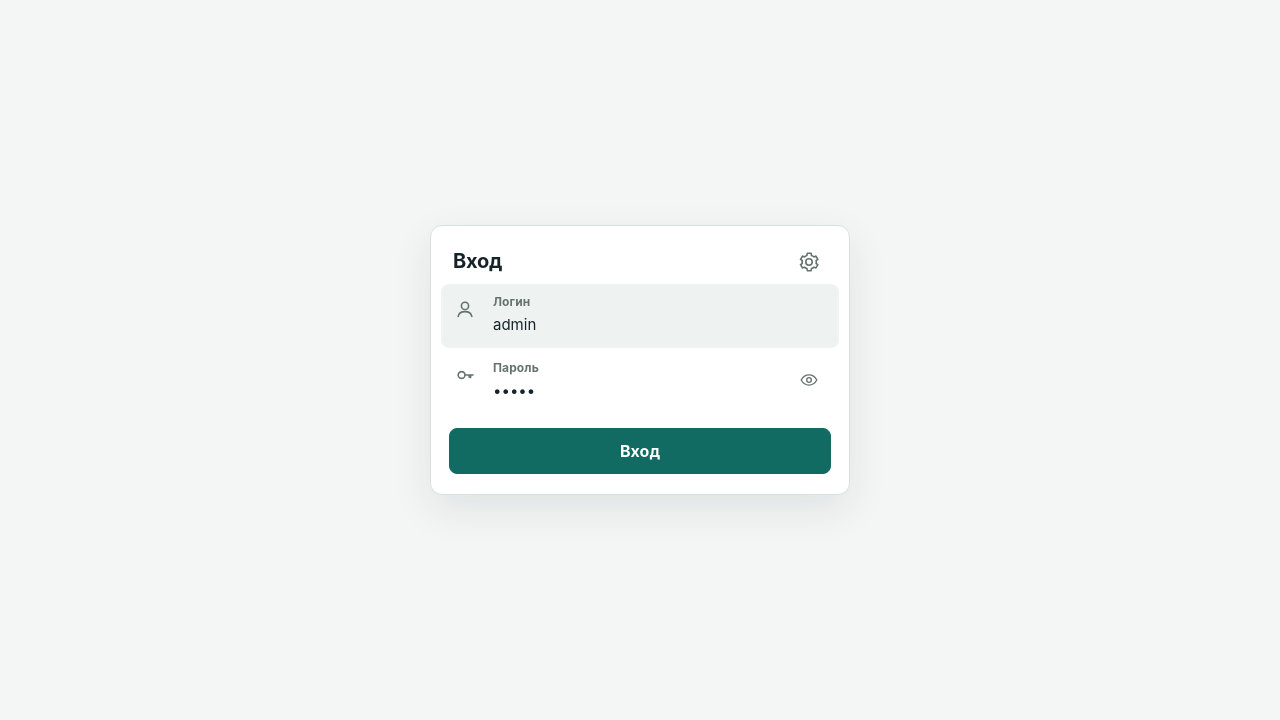
Test: LoginPage › offers language and theme behind the settings button
Click the 1st button with class "icon-button" at (809, 262), box left=791, top=244, right=827, bottom=280
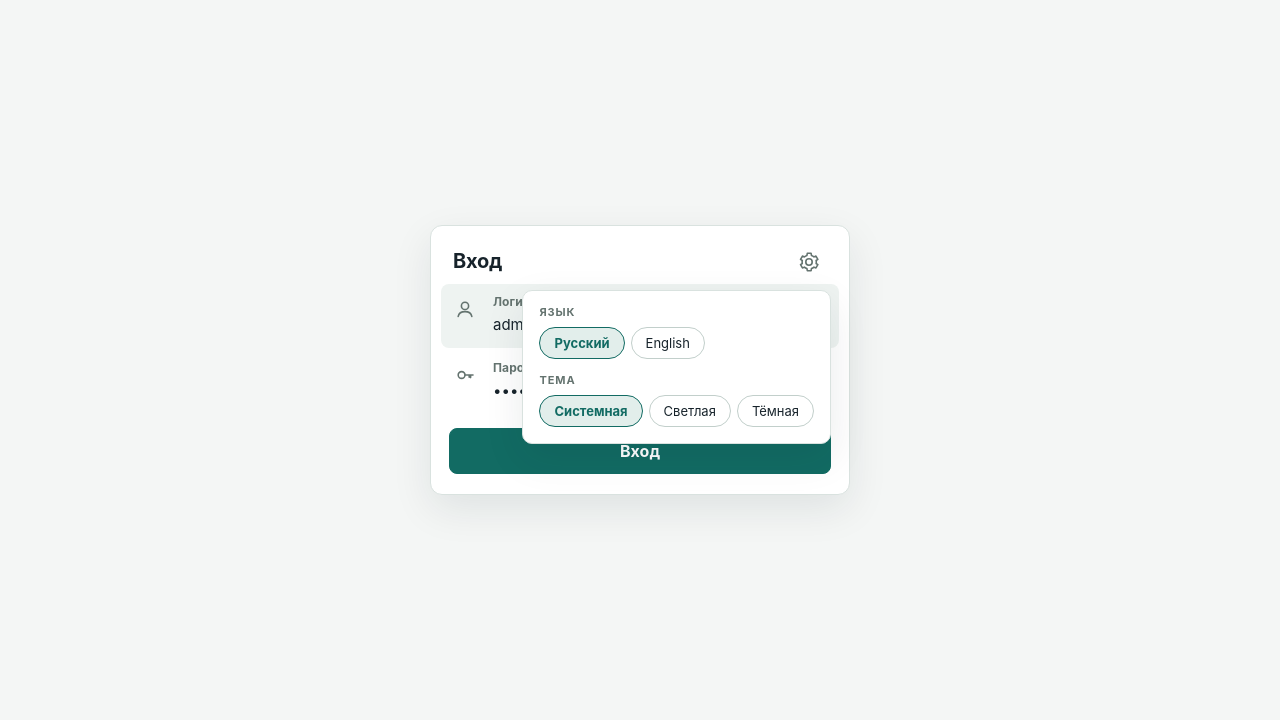
Expected: the dialog is shown, left=522, top=290, right=831, bottom=444
Expected: the dialog shows "Язык", left=540, top=305, right=575, bottom=319
Expected: the dialog shows "Тема", left=540, top=373, right=576, bottom=387
